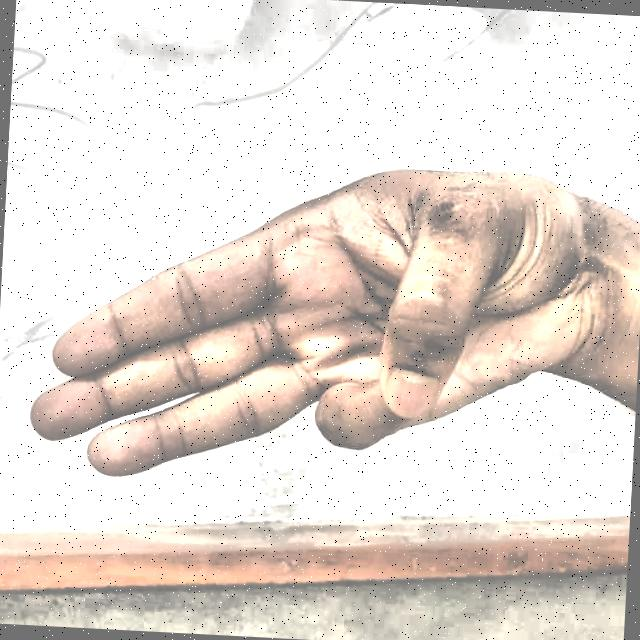Ma: (12, 116, 611, 568)
